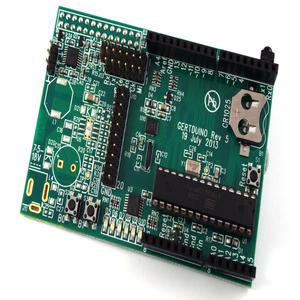duino: (12, 5, 282, 283)
